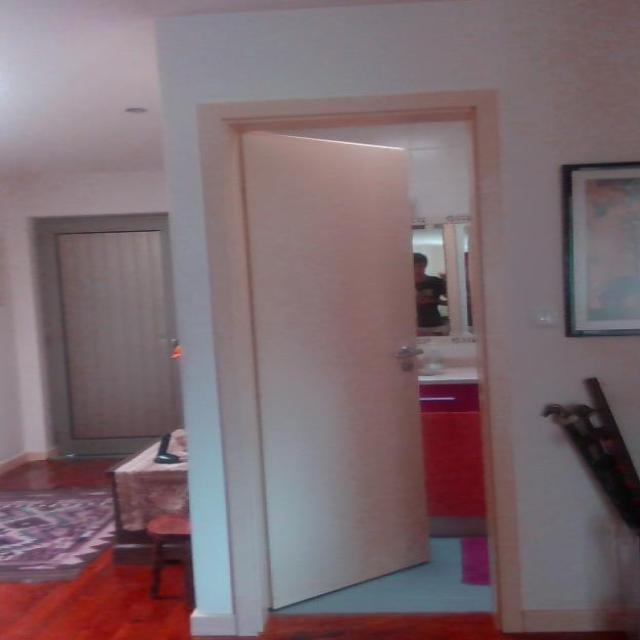door: (238, 129, 431, 609)
